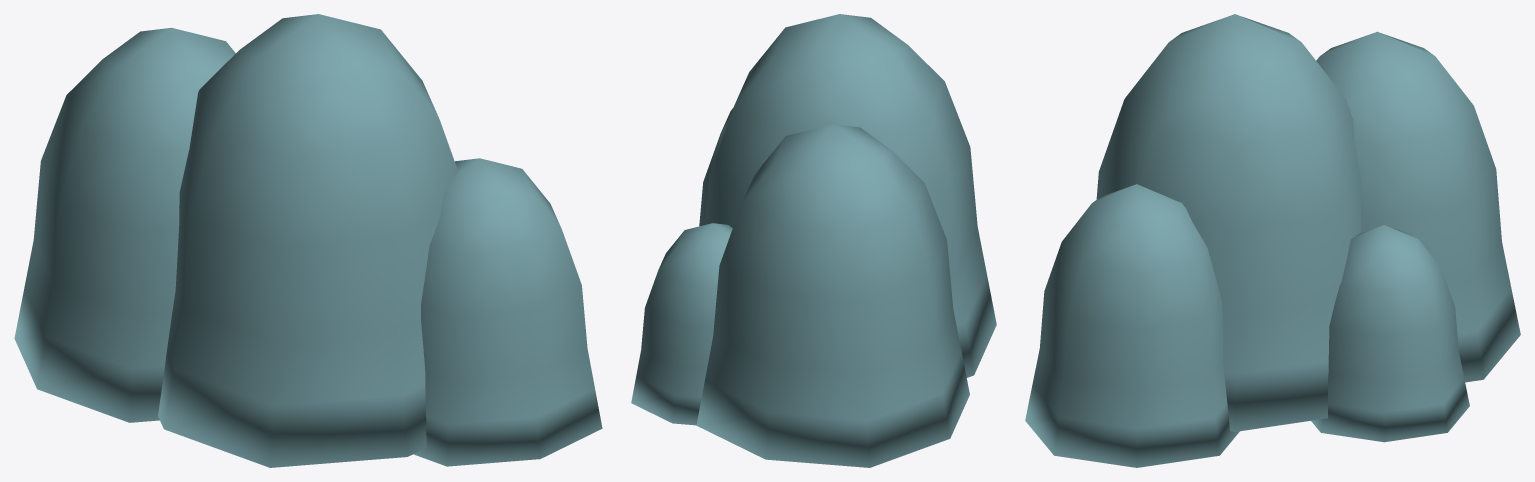
The model's file is Rocks_LP.fbx.
The picture shows the model from 3 angles, left to right: view 1: azimuth 30°, elevation 25°; view 2: azimuth 150°, elevation 25°; view 3: azimuth 270°, elevation 25°; orthographic projection. The views are drawn at different scales.
Visible parts, largest first — view 1: Rocks; view 2: Rocks; view 3: Rocks.
Boxes of the visible parts, bbox=[...] form: Rocks: bbox=[14, 14, 602, 467]; Rocks: bbox=[631, 14, 996, 467]; Rocks: bbox=[1025, 14, 1520, 467].
Size of the model in its own units: 92.28 by 83.11 by 103.
